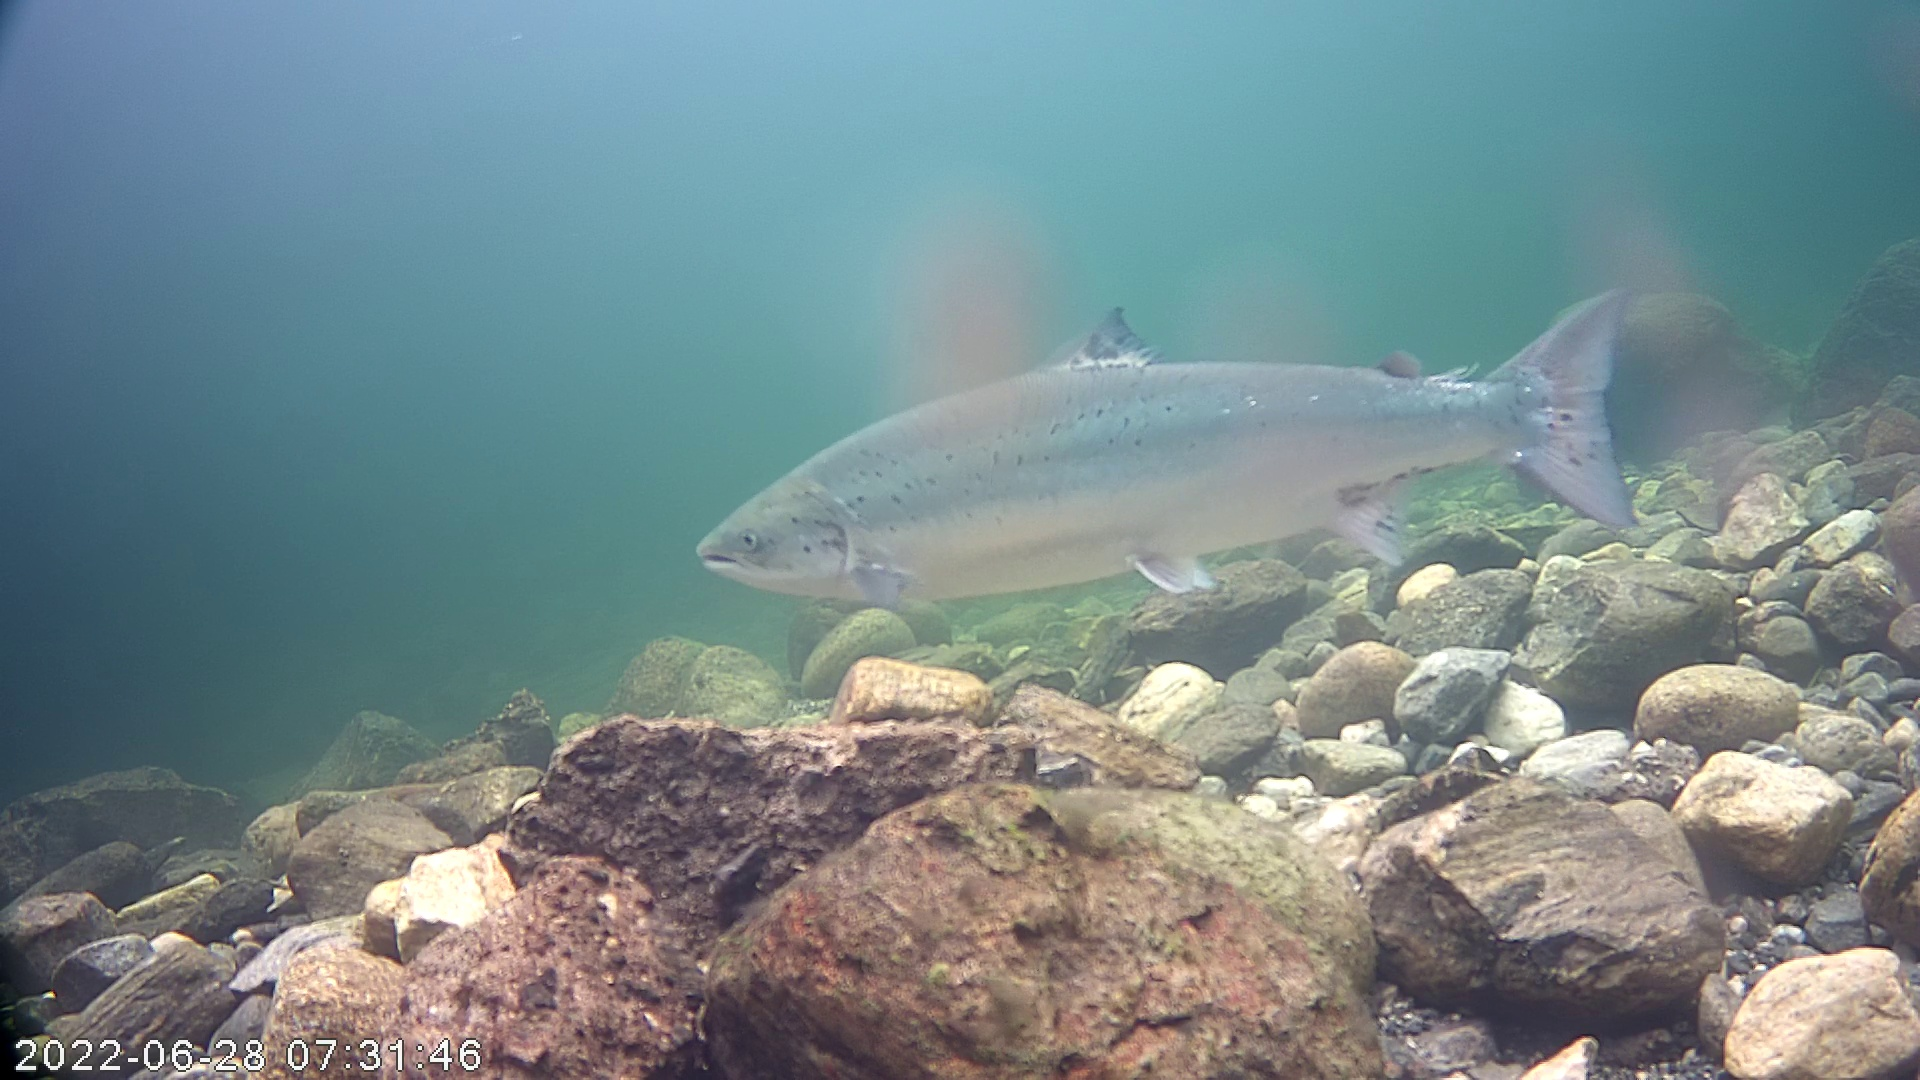salmon: (690, 204, 1665, 663)
